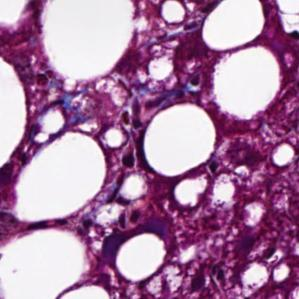inflammation: (175, 243, 227, 296), (228, 225, 272, 262)
